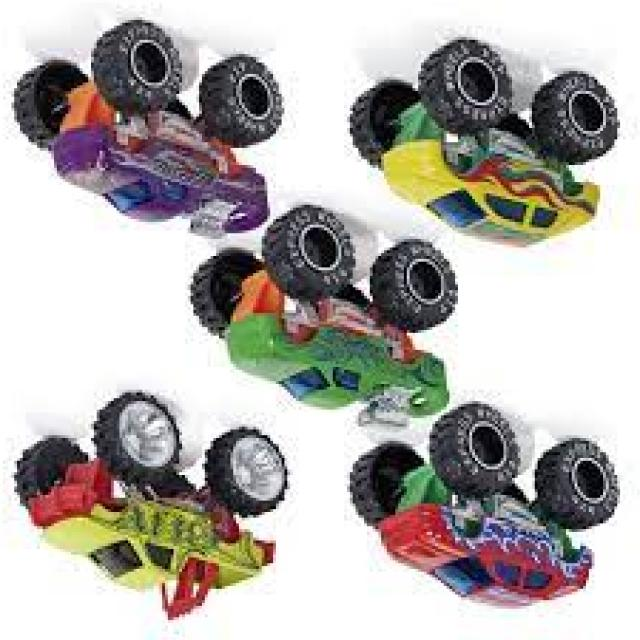Car: (14, 392, 290, 623), (190, 208, 460, 435), (14, 23, 288, 242), (350, 40, 623, 250), (350, 404, 623, 611)
